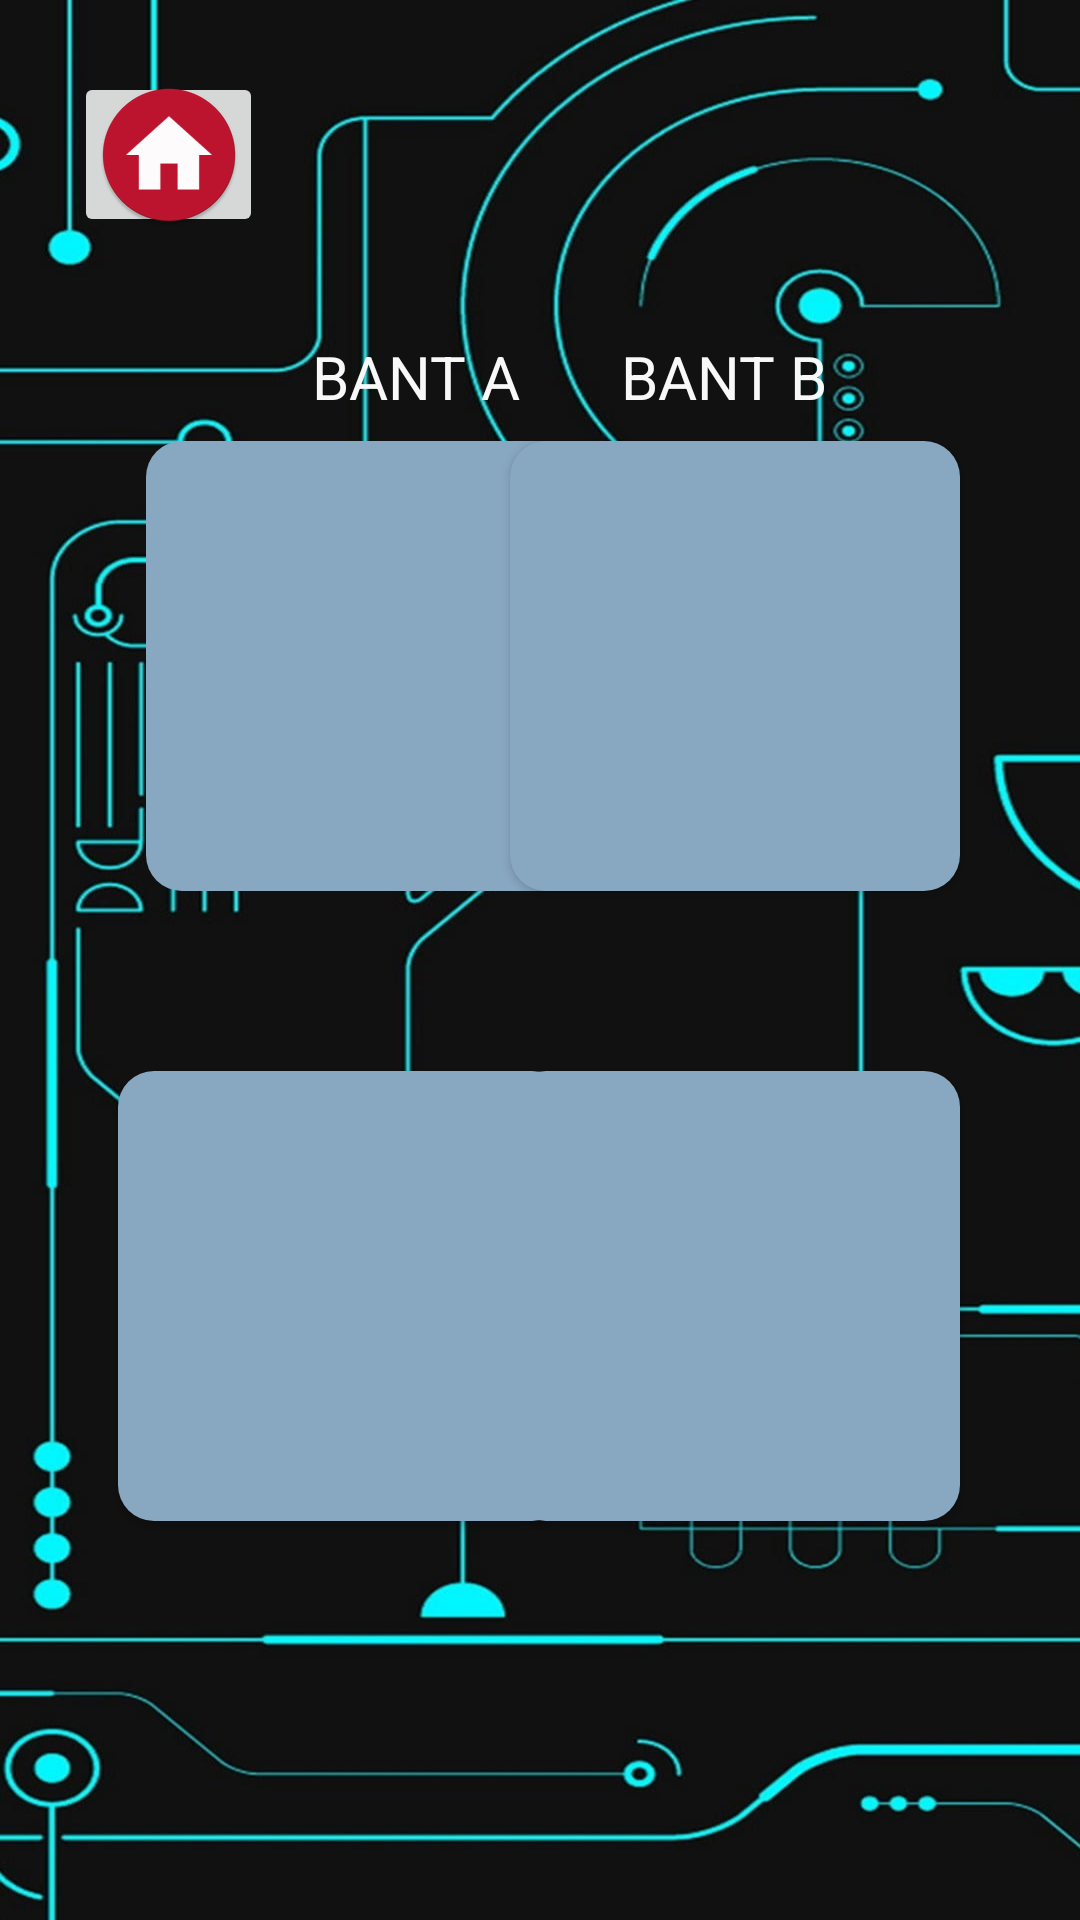

Named icons in this screenshot (1080px×1920px) and their centers, [x,y]:
newhome round: [162,154]
